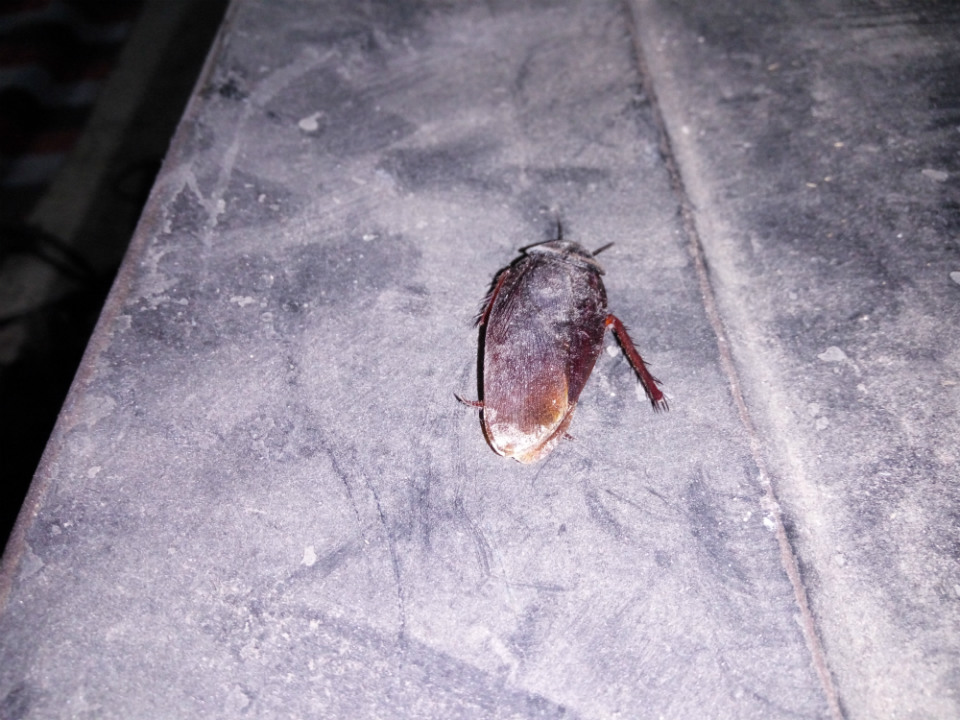cockroach: (395, 134, 681, 518)
